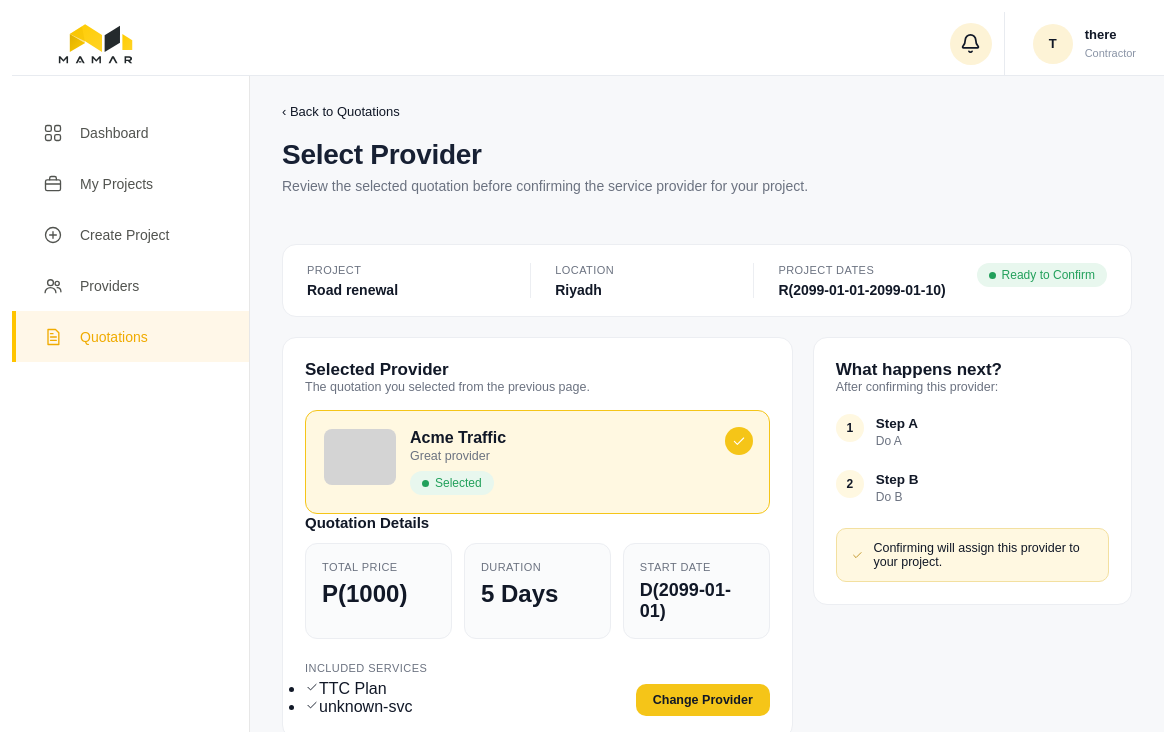
Test: SelectProviderPage › Change Provider و Cancel و Back يرجعون للعروض
The width and height of the screenshot is (1164, 732).
Expected: the heading "Acme Traffic" is shown, [410,430,506,448]
Click the button "Change Provider" at [703, 700], box [636,684,770,716]
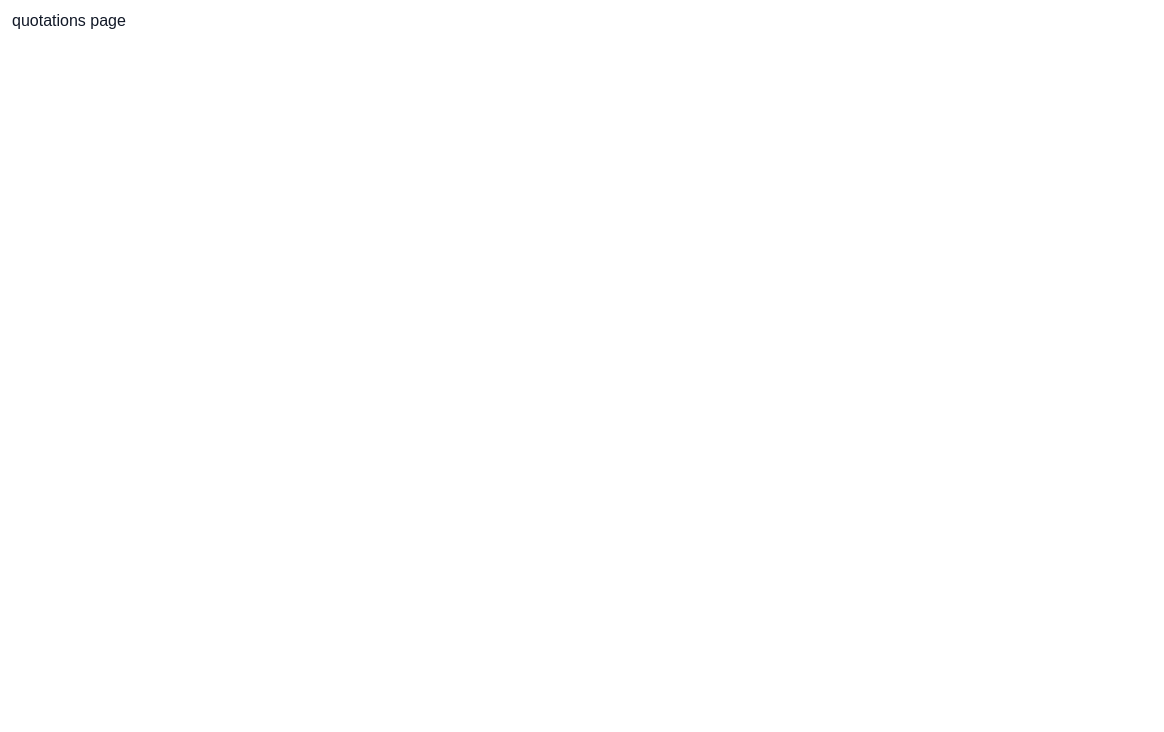
Expected: the text "quotations page" is shown, [12,12,126,29]
